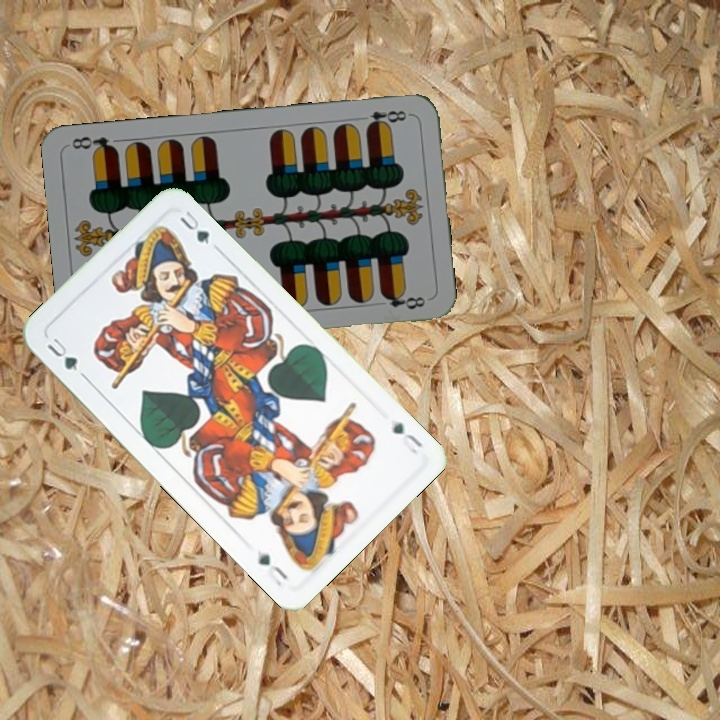E8: (362, 106, 413, 131)
GU: (386, 415, 426, 457), (43, 333, 80, 374)
